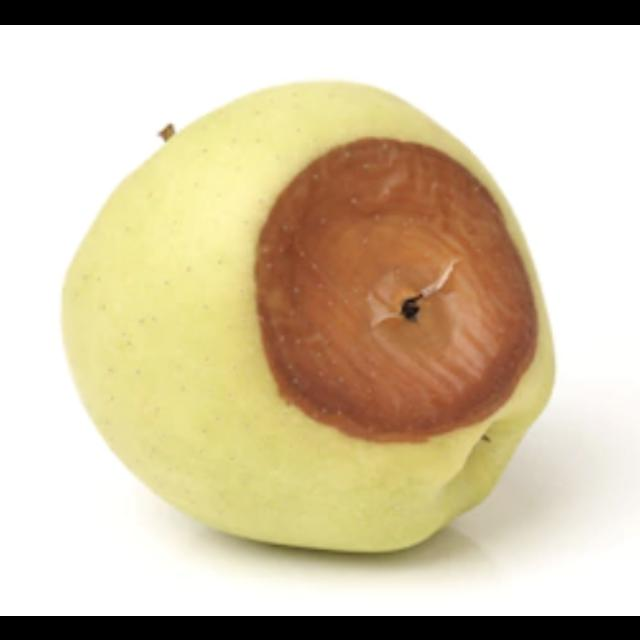Apel Segar: (62, 82, 426, 545)
Apel Tidak Segar: (234, 135, 550, 467)
